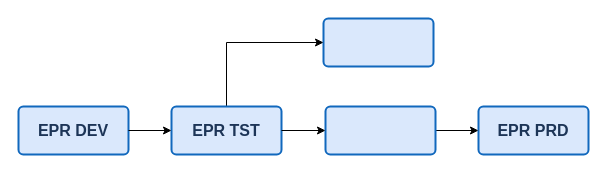
This 606x172 diagram has some shape labels left out. Each missing label, with the centre of its shape:
EPR PRE: the point at 380,130
EPR PRE-2: the point at 378,42
